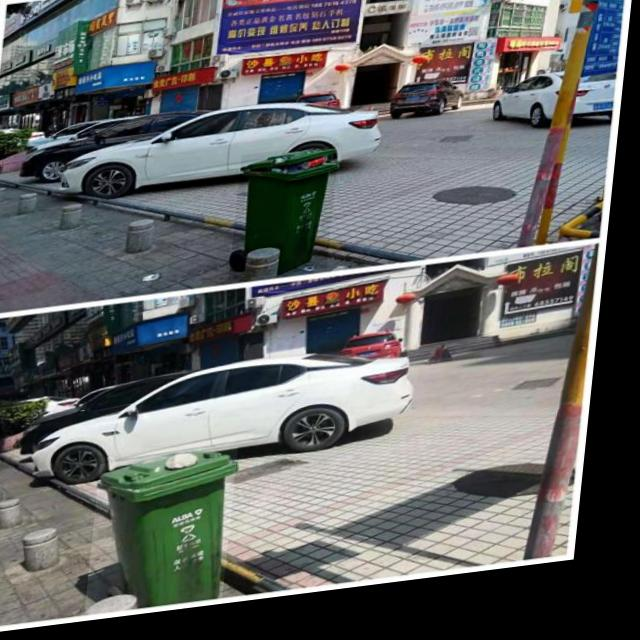garbage_bin: (98, 454, 249, 619)
overflow: (236, 153, 344, 287)
